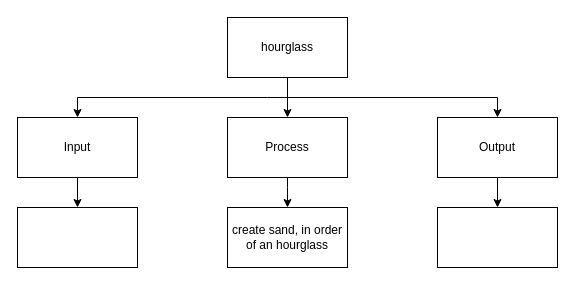
Image size: 575x285. Some labels were removed from this diagram. The shapes that lost their labels are listed below. From the top down, each one's centre as x and y in pixels, then its label:
At (x=77, y=237): "Get userInput".
At (x=497, y=237): "show the hourglass".
